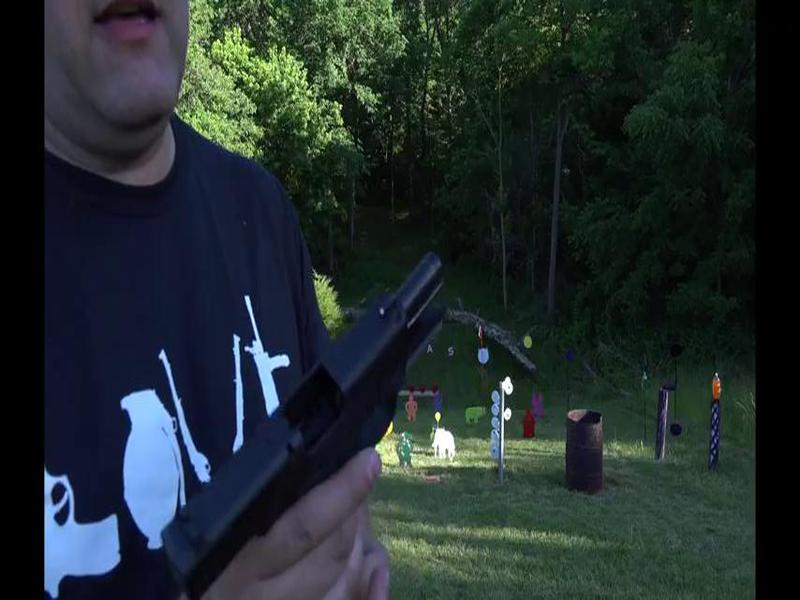Pistola: (149, 244, 462, 600)
